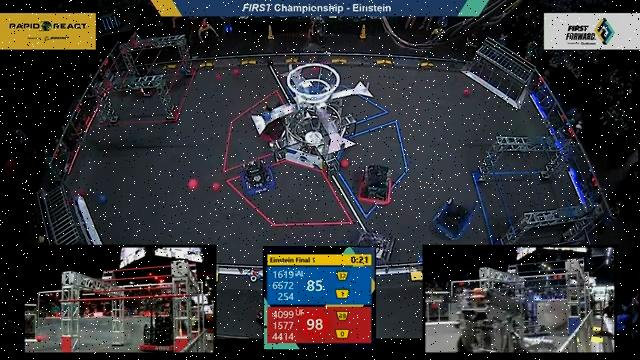Robot: (351, 158, 407, 205), (427, 193, 478, 241), (233, 153, 278, 201), (351, 223, 393, 264), (132, 59, 159, 101)
